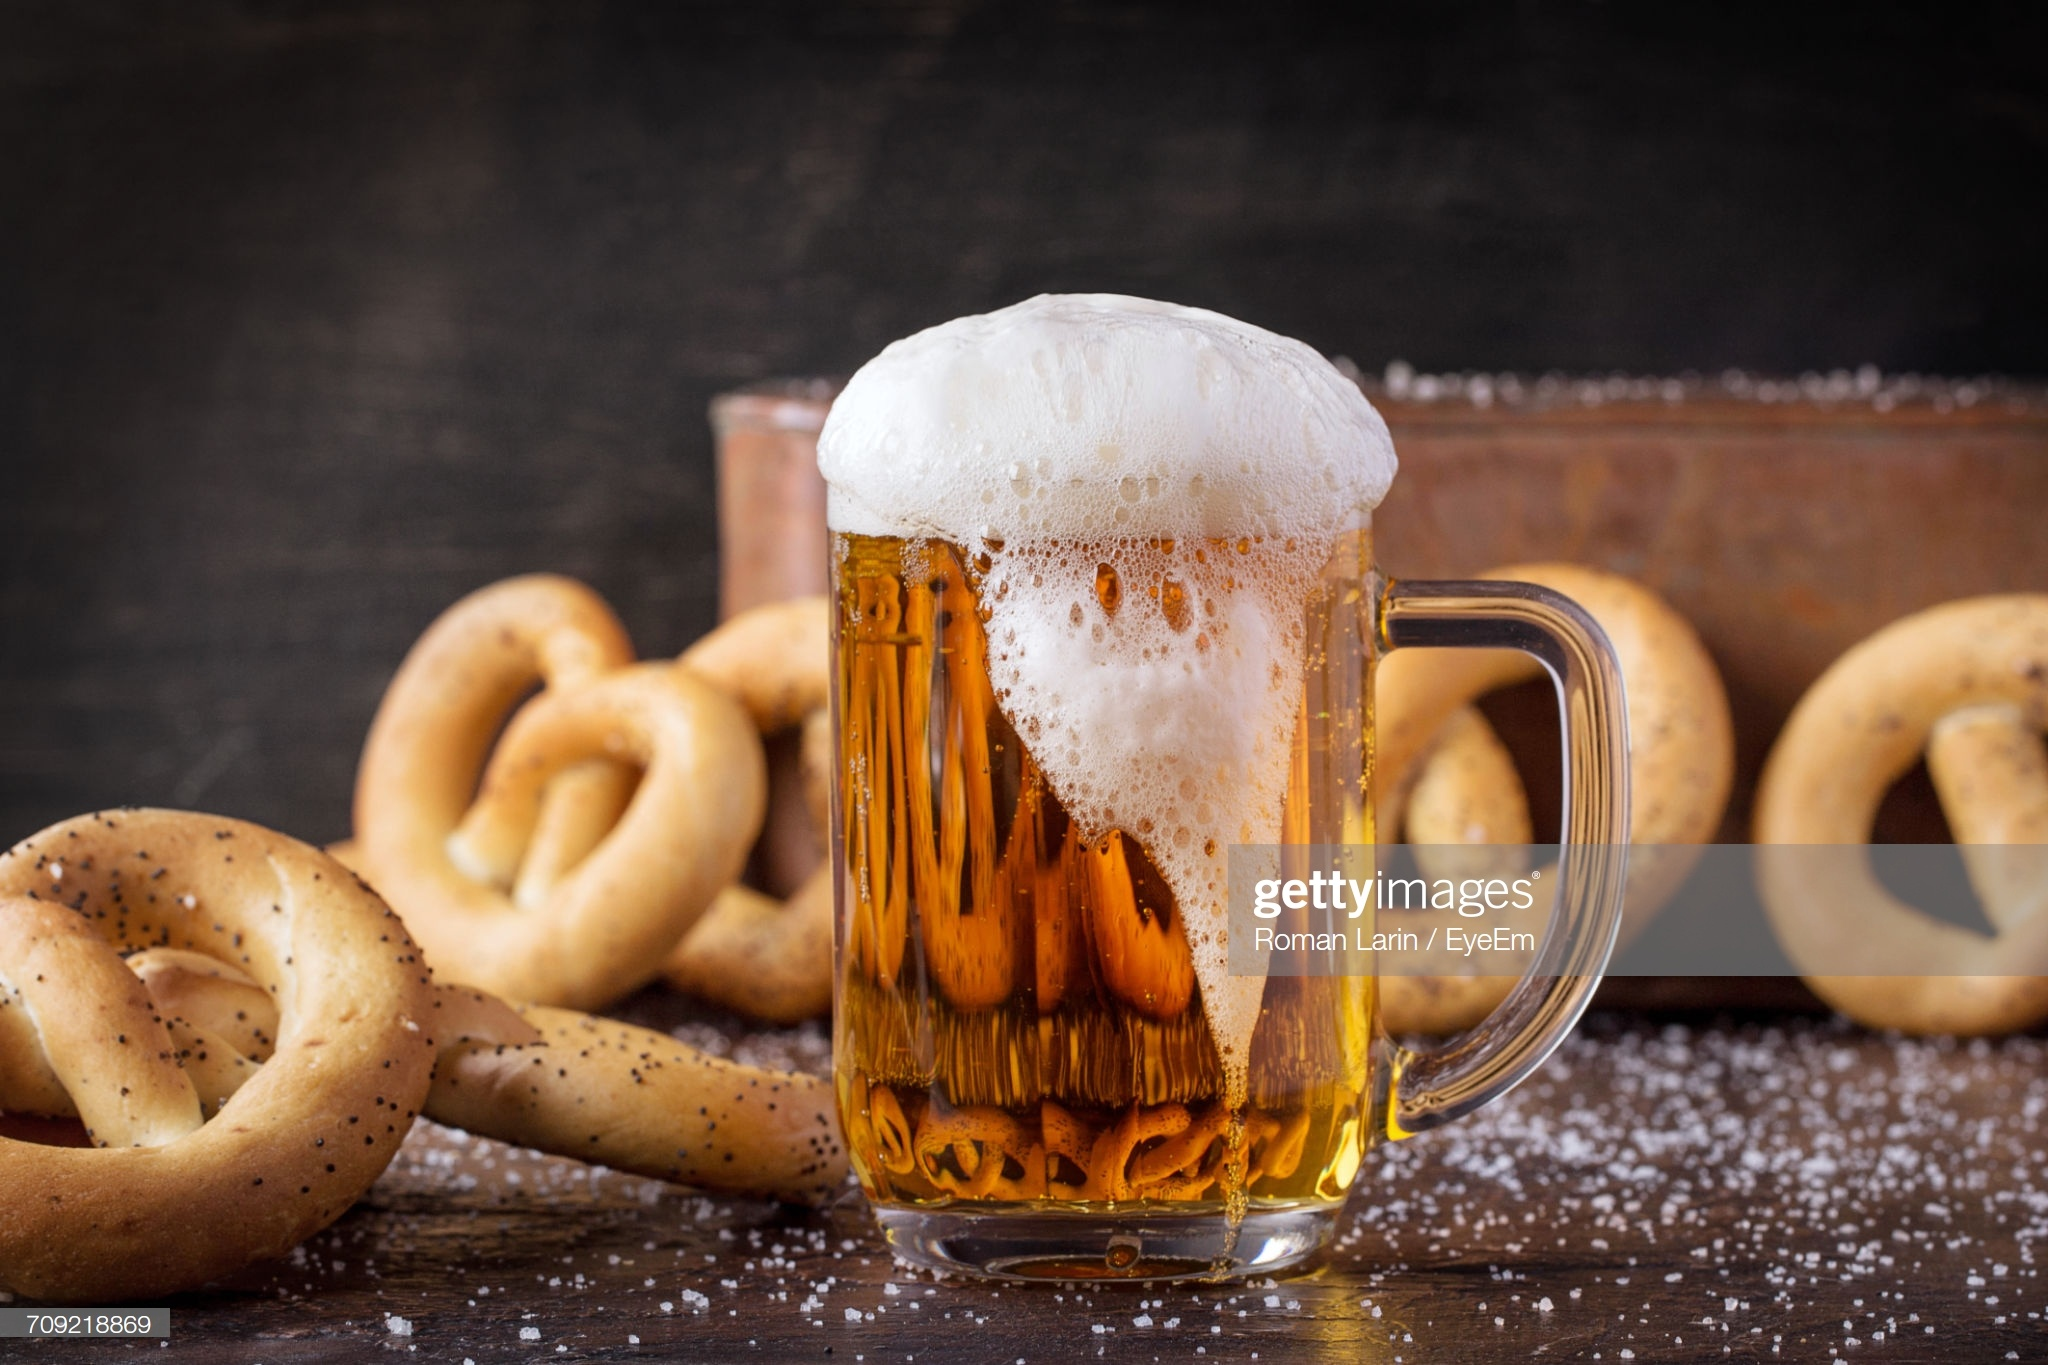glassBeer: (833, 358, 1386, 1252)
